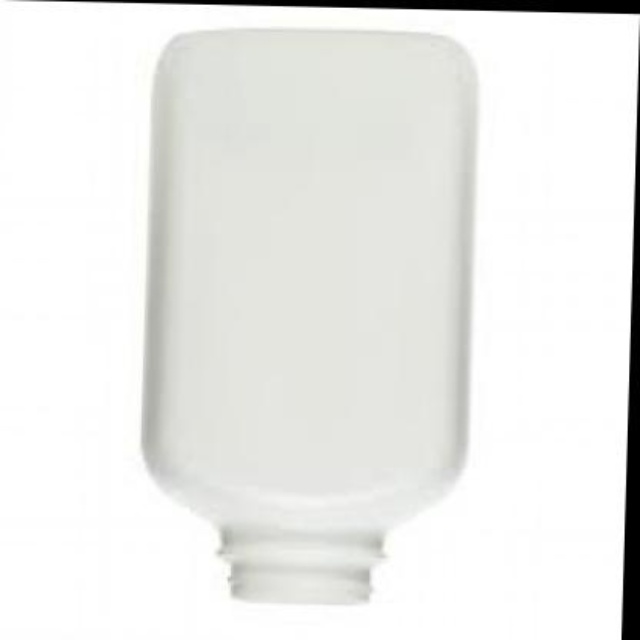trash: (143, 29, 475, 602)
